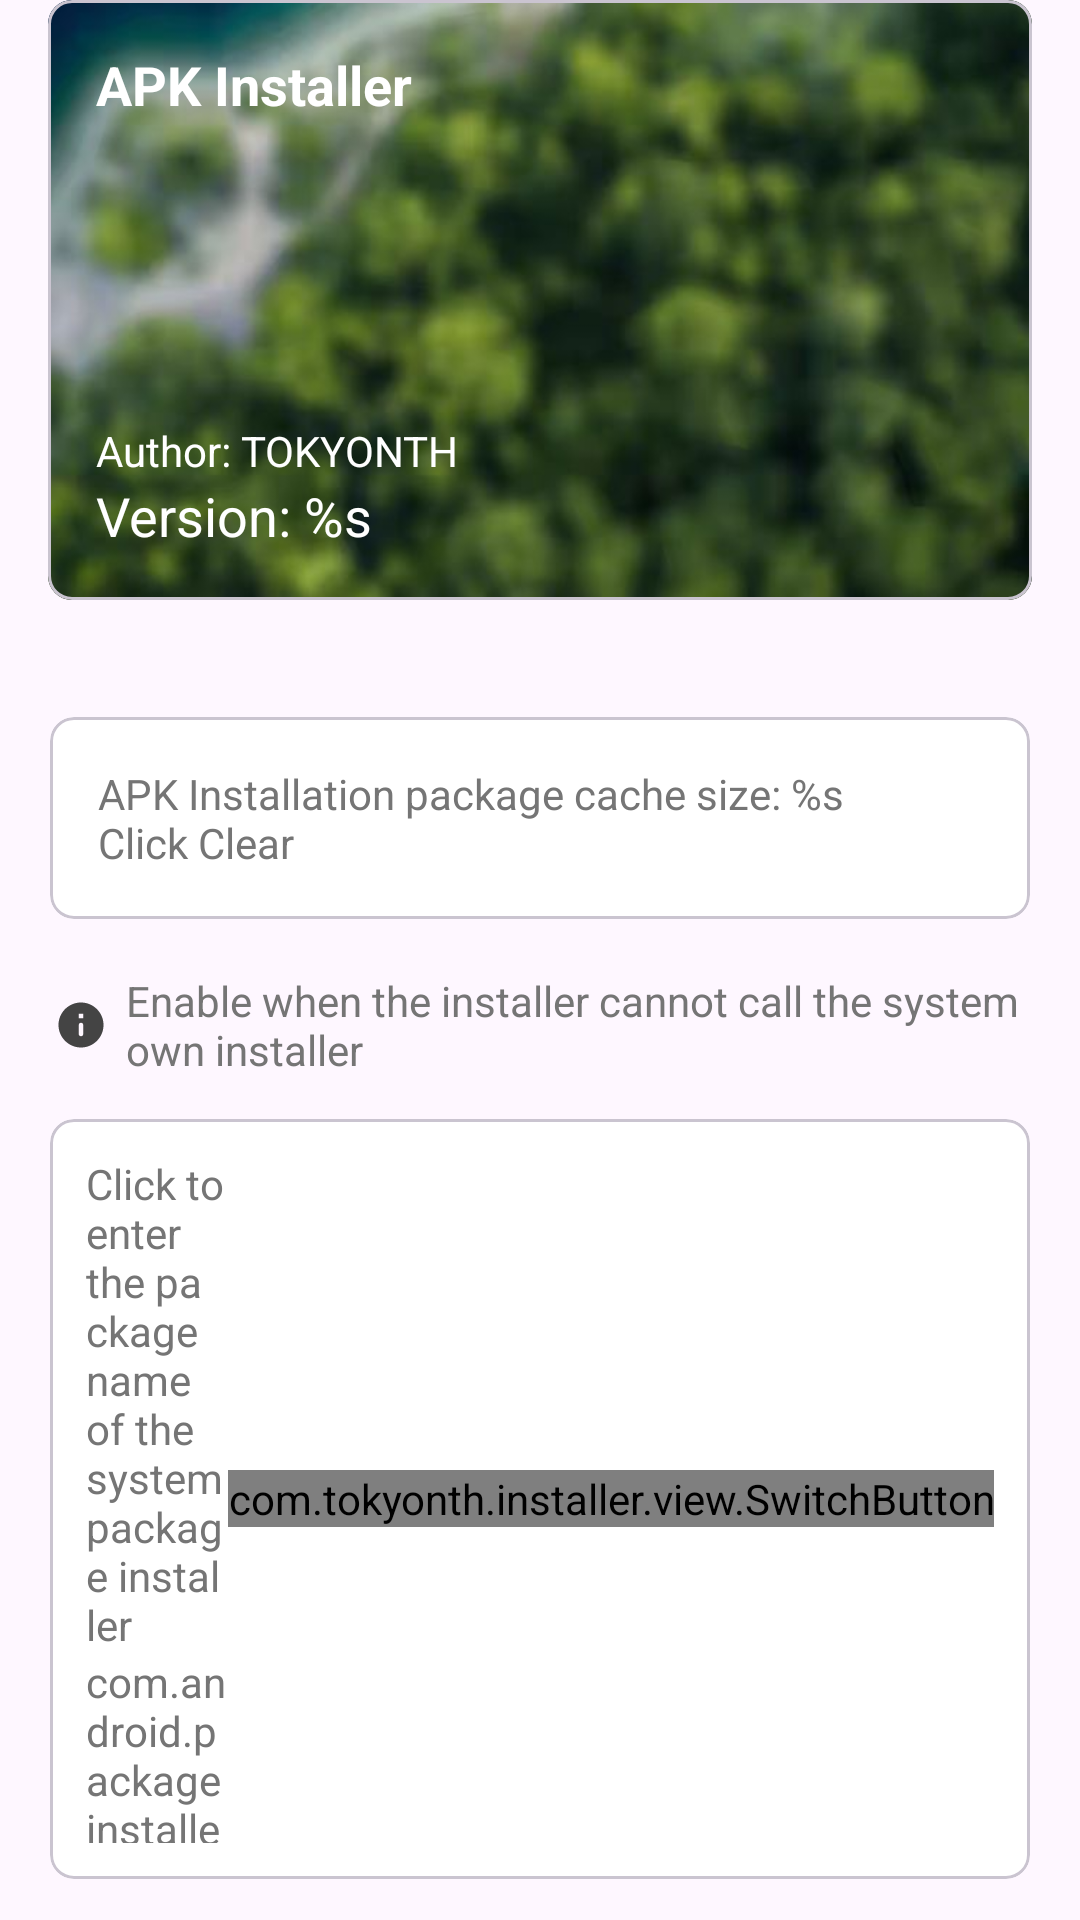

Icons on this 1080x1920 Android screen, each with the point to tap as (x,y):
info: (81,1025)
